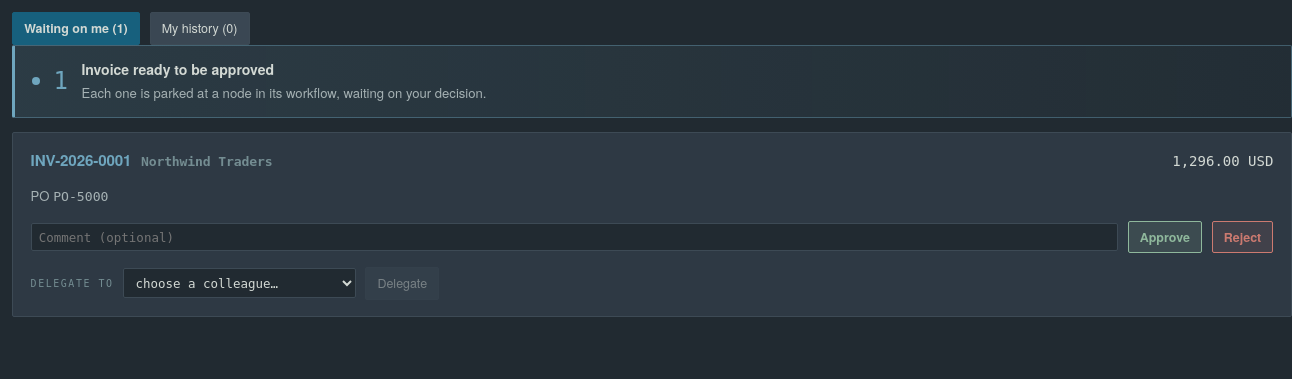
Test: when the server refuses › shows a 403 on someone else's step as the server worded it
This screenshot has width=1292, height=379.
Click the button "Approve" at (1165, 237), box [1128, 221, 1202, 254]
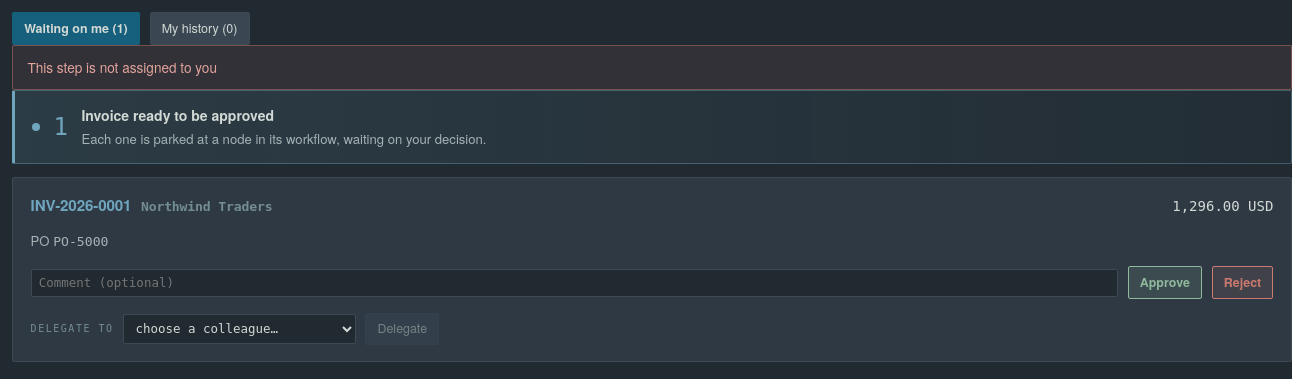
Now the text "This step is not assigned to you" is shown, box [12, 44, 1291, 90]
